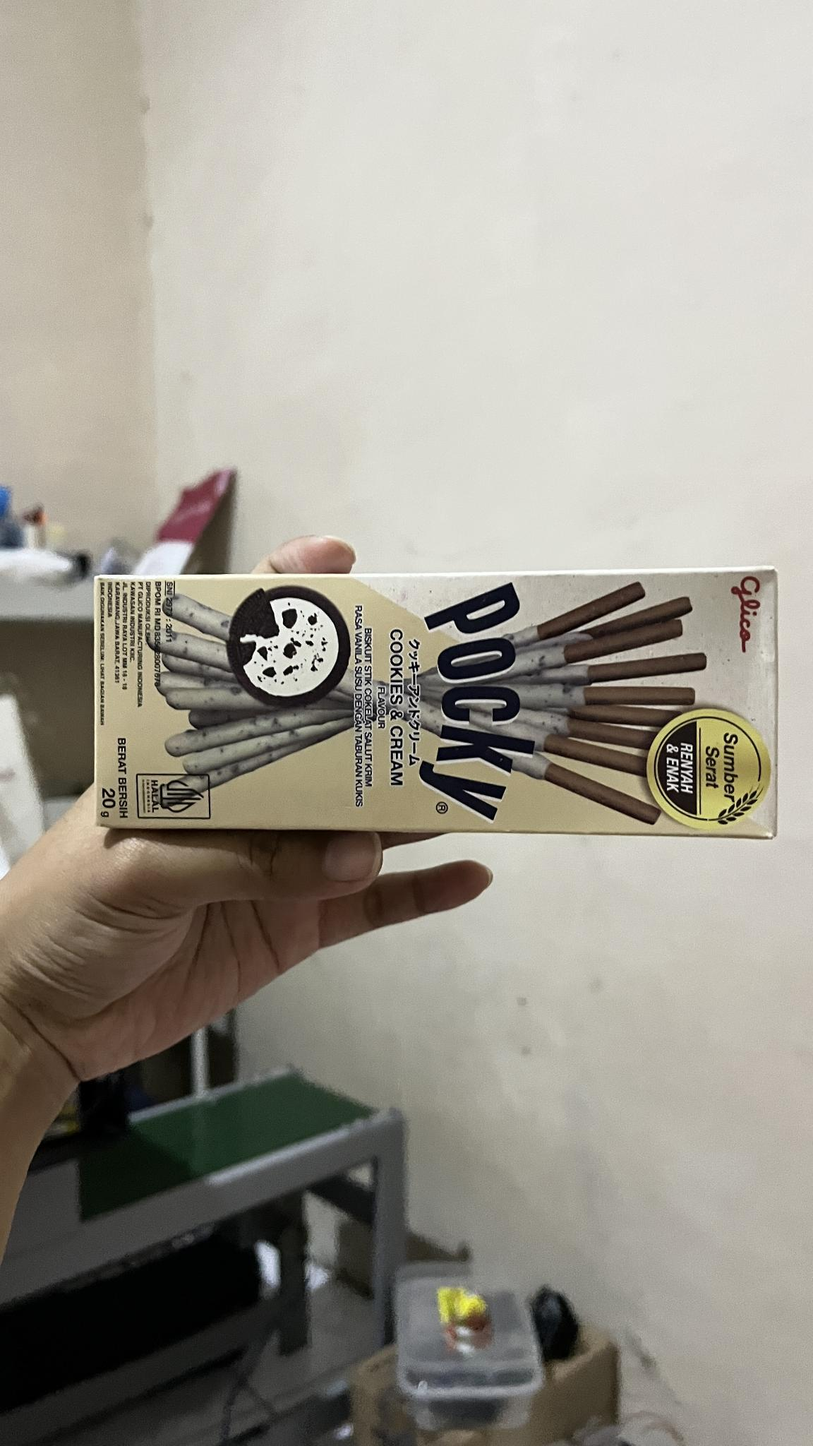Kertas: (97, 574, 785, 846)
